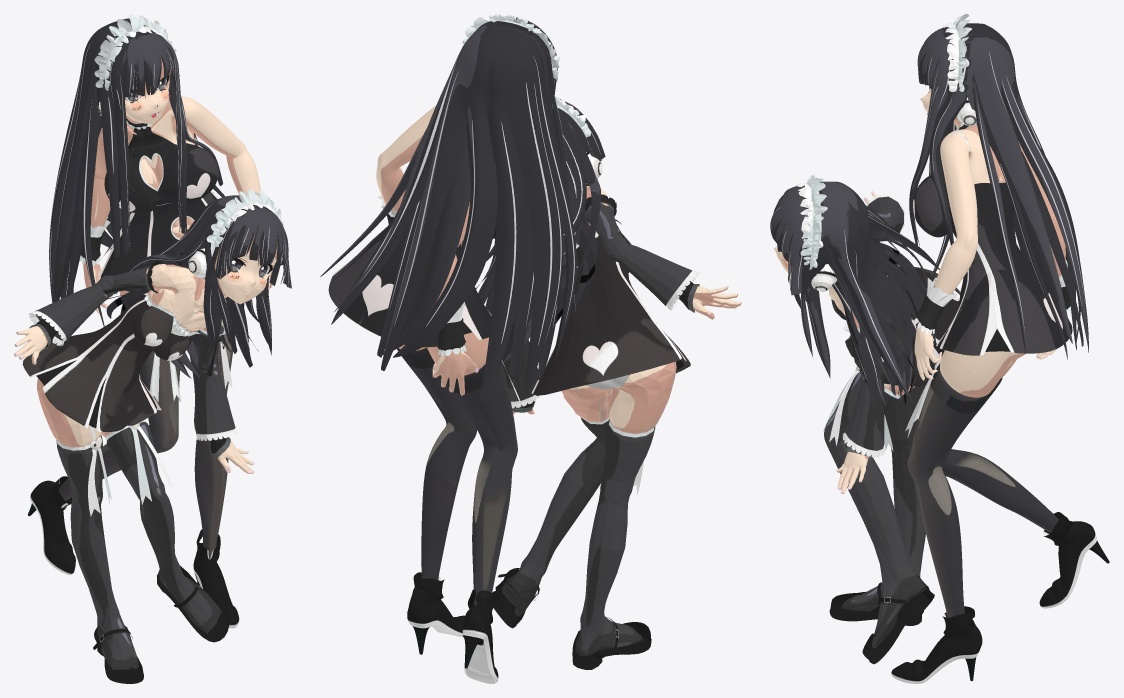
File: maid-transformed.glb
3 renders of one model, left to right at view 1: azimuth 30°, elevation 25°; view 2: azimuth 150°, elevation 25°; view 3: azimuth 270°, elevation 25°, orthographic. The views are drawn at different scales.
Parts seen in each view (by area): view 1: girl_cloth2, girl_skin2, girl_hair, girl_cloth, girl_skin, girl_hair2; view 2: girl_hair, girl_cloth2, girl_skin2, girl_skin, girl_cloth, girl_hair2; view 3: girl_cloth, girl_skin, girl_hair, girl_hair2, girl_skin2, girl_cloth2.
Part boxes in pixels (bbox=[...]): girl_cloth2: bbox=[22, 189, 285, 683]; girl_skin2: bbox=[14, 234, 277, 669]; girl_hair: bbox=[49, 18, 225, 326]; girl_cloth: bbox=[28, 14, 268, 628]; girl_skin: bbox=[59, 56, 273, 559]; girl_hair2: bbox=[106, 195, 291, 378]; girl_hair: bbox=[320, 17, 577, 403]; girl_cloth2: bbox=[492, 96, 699, 669]; girl_skin2: bbox=[502, 124, 741, 656]; girl_skin: bbox=[376, 105, 517, 605]; girl_cloth: bbox=[328, 14, 559, 683]; girl_hair2: bbox=[462, 99, 605, 362]; girl_cloth: bbox=[891, 14, 1109, 683]; girl_skin: bbox=[907, 88, 1065, 617]; girl_hair: bbox=[909, 23, 1088, 359]; girl_hair2: bbox=[770, 181, 939, 404]; girl_skin2: bbox=[774, 191, 926, 648]; girl_cloth2: bbox=[795, 174, 960, 664].
Size of the model in its own units: 8.75 by 16.49 by 8.1.
10 materials, 8 textured.
